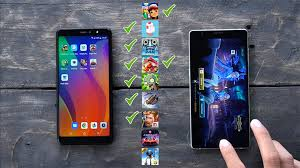bphone: (52, 27, 118, 147)
